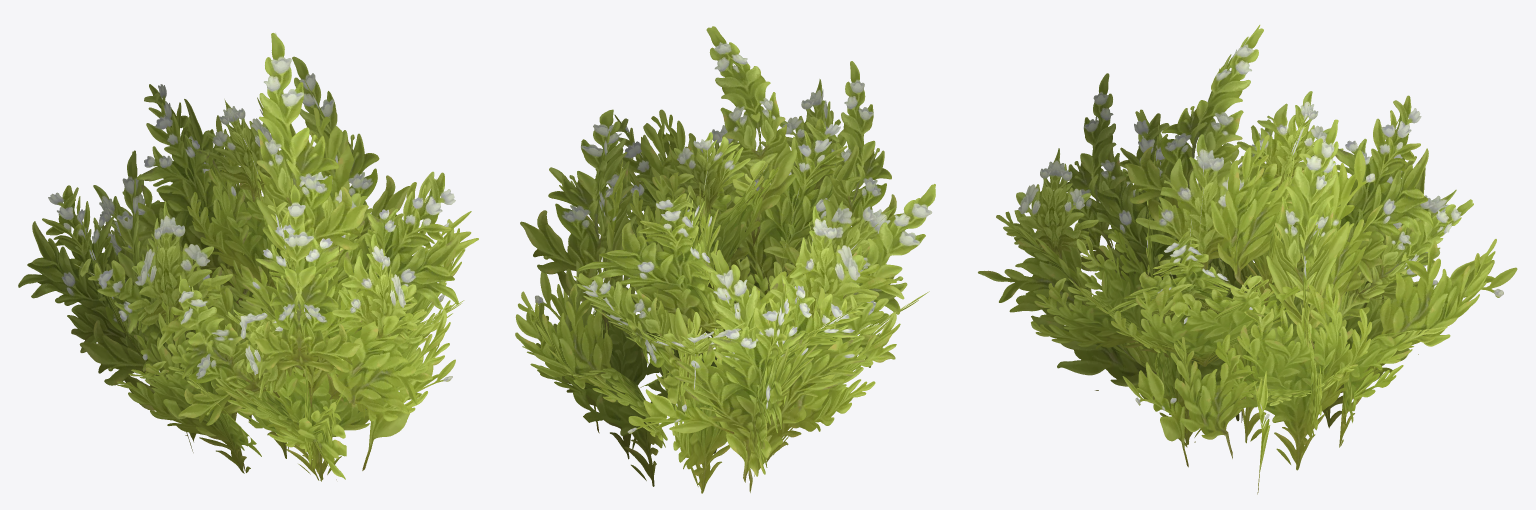
3 renders of one model, left to right at view 1: azimuth 30°, elevation 25°; view 2: azimuth 150°, elevation 25°; view 3: azimuth 270°, elevation 25°, orthographic. The views are drawn at different scales.
Bounding box in the file's own units: 7.02 × 8.34 × 9.59.
Materials: 1 (1 with a texture image).
